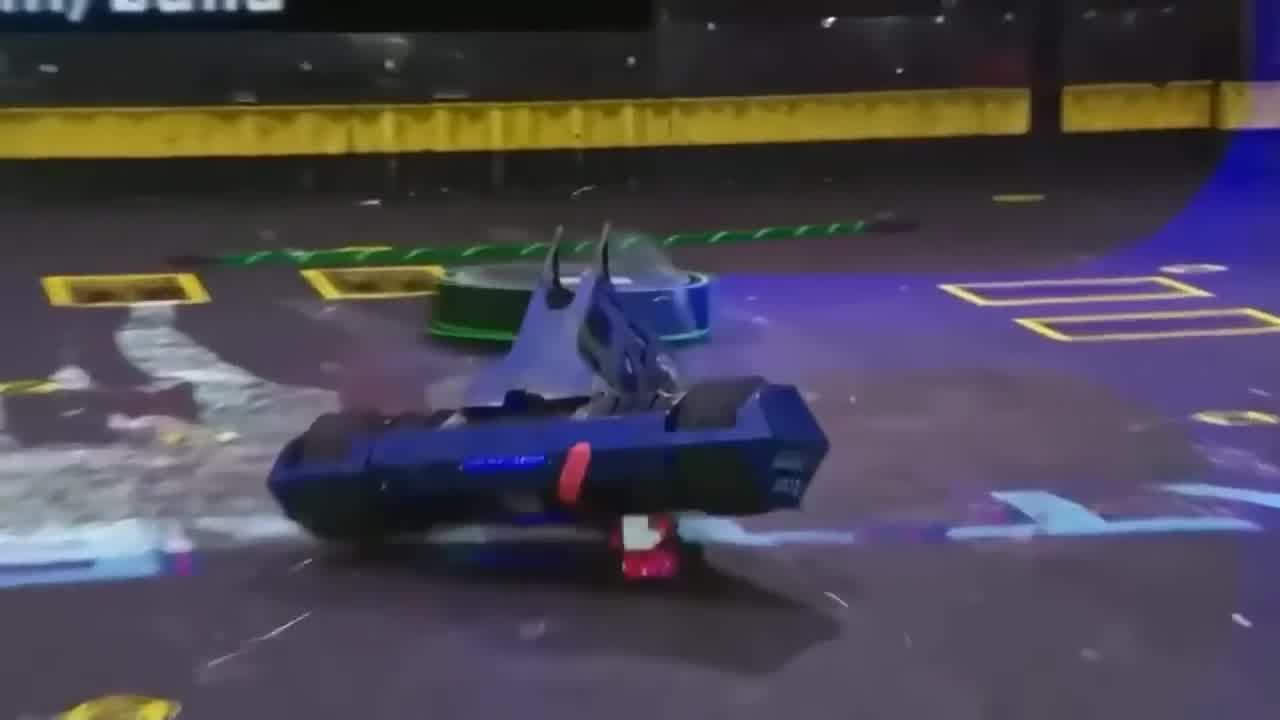combatbot: (268, 226, 827, 585), (423, 230, 717, 355)
